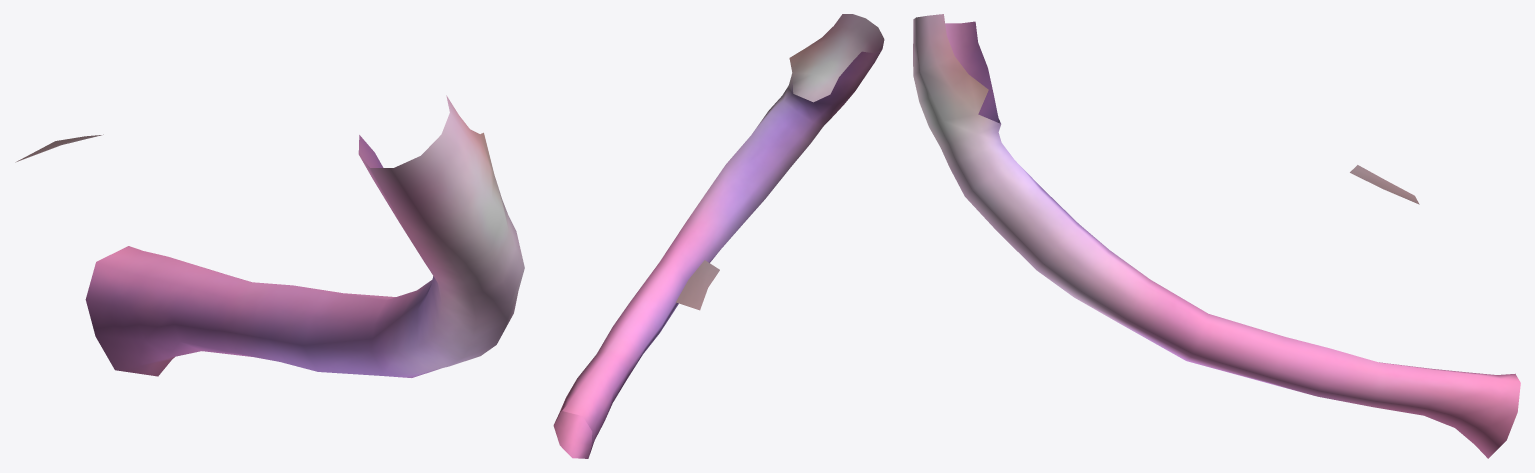
File: caudatetail.obj
The picture shows the model from 3 angles, left to right: view 1: azimuth 30°, elevation 25°; view 2: azimuth 150°, elevation 25°; view 3: azimuth 270°, elevation 25°; orthographic projection. The views are drawn at different scales.
Visible parts, largest first — view 1: Caudatetail; view 2: Caudatetail; view 3: Caudatetail.
Part boxes in pixels (x1,y1,x2,y2): Caudatetail: (15,95,524,377); Caudatetail: (553,14,884,458); Caudatetail: (913,14,1520,458).
Bounding box in the file's own units: 112 × 256 × 348.
1 material, 1 textured.
